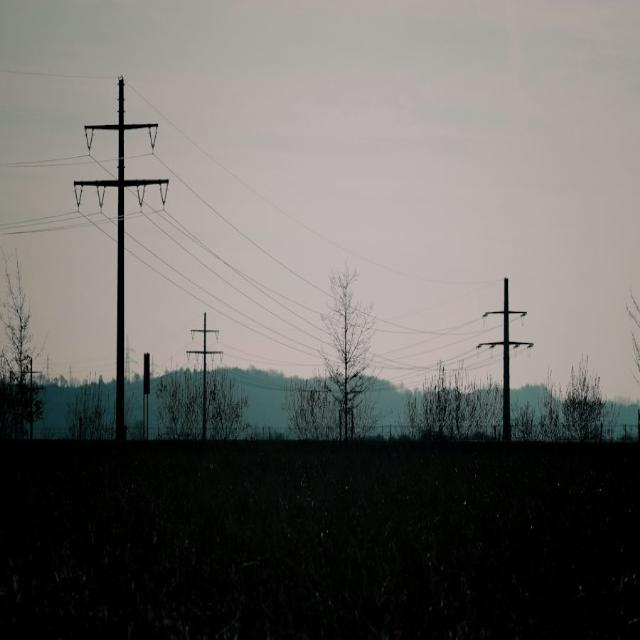transmission tower: (41, 49, 217, 442), (464, 268, 551, 477)
